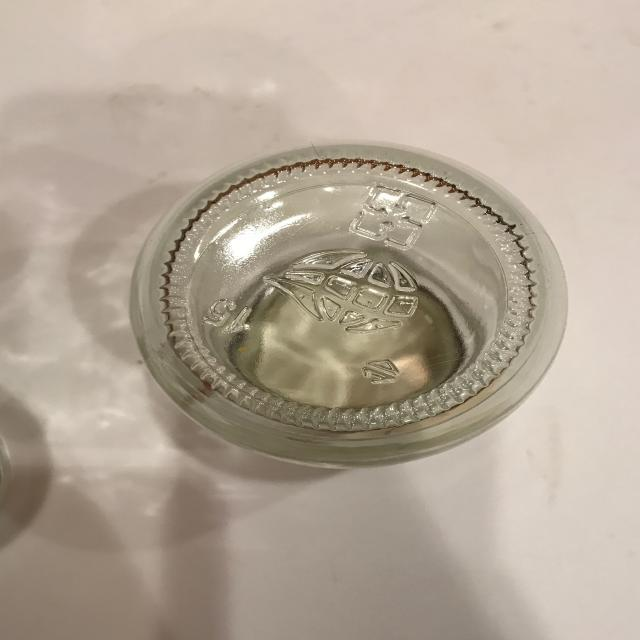glass: (130, 140, 570, 470)
